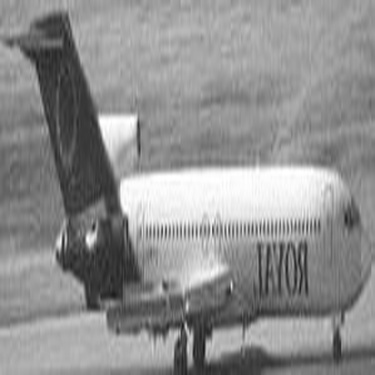airplane: (10, 7, 353, 354)
